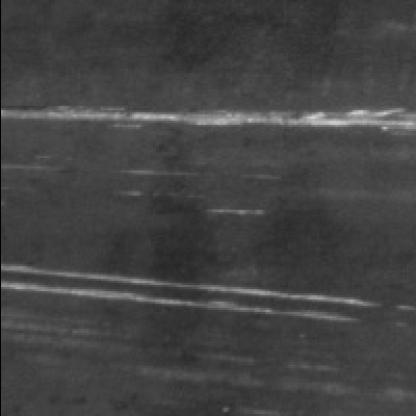scratches: (2, 262, 416, 318), (4, 90, 414, 140)
